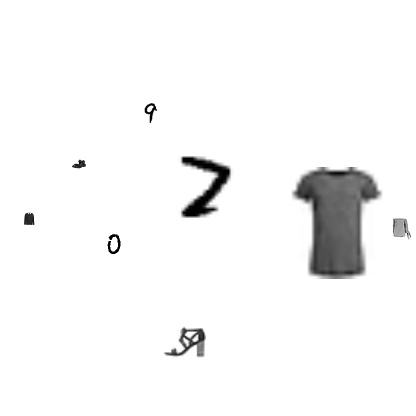1: (229, 23, 313, 107), (301, 7, 329, 35)
9: (74, 252, 130, 308)
Bag: (337, 138, 379, 180)
Dress: (212, 316, 268, 372), (395, 353, 409, 367)
Pullover: (70, 36, 98, 64)
Sandal: (84, 67, 196, 179)
T-shirt/top: (243, 188, 355, 300)
Trouser: (201, 288, 215, 302)
